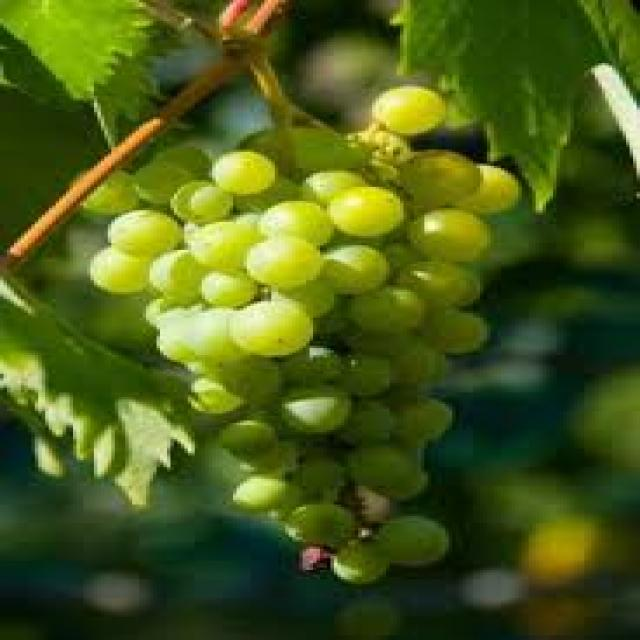grape: (105, 86, 532, 582)
